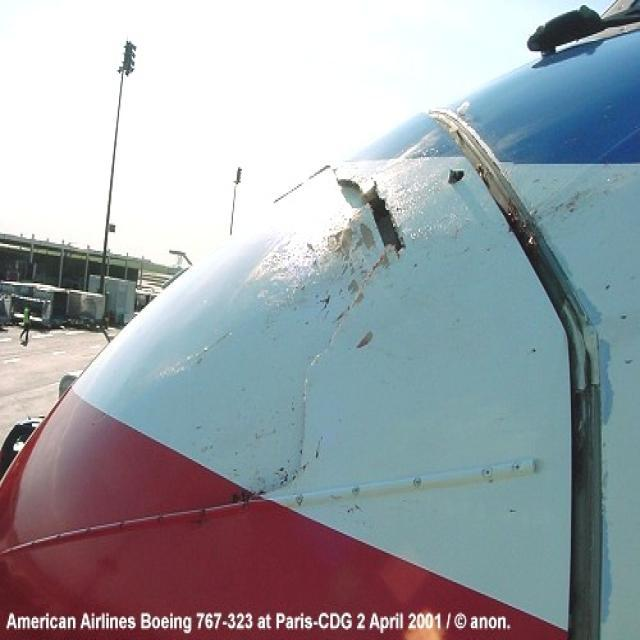crack: (334, 167, 364, 203)
